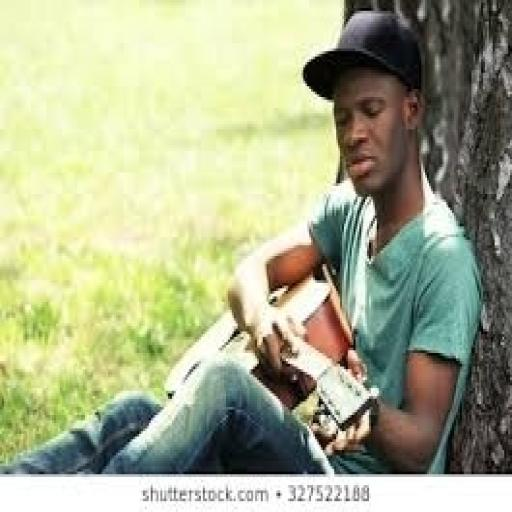sitting: (0, 8, 483, 474)
